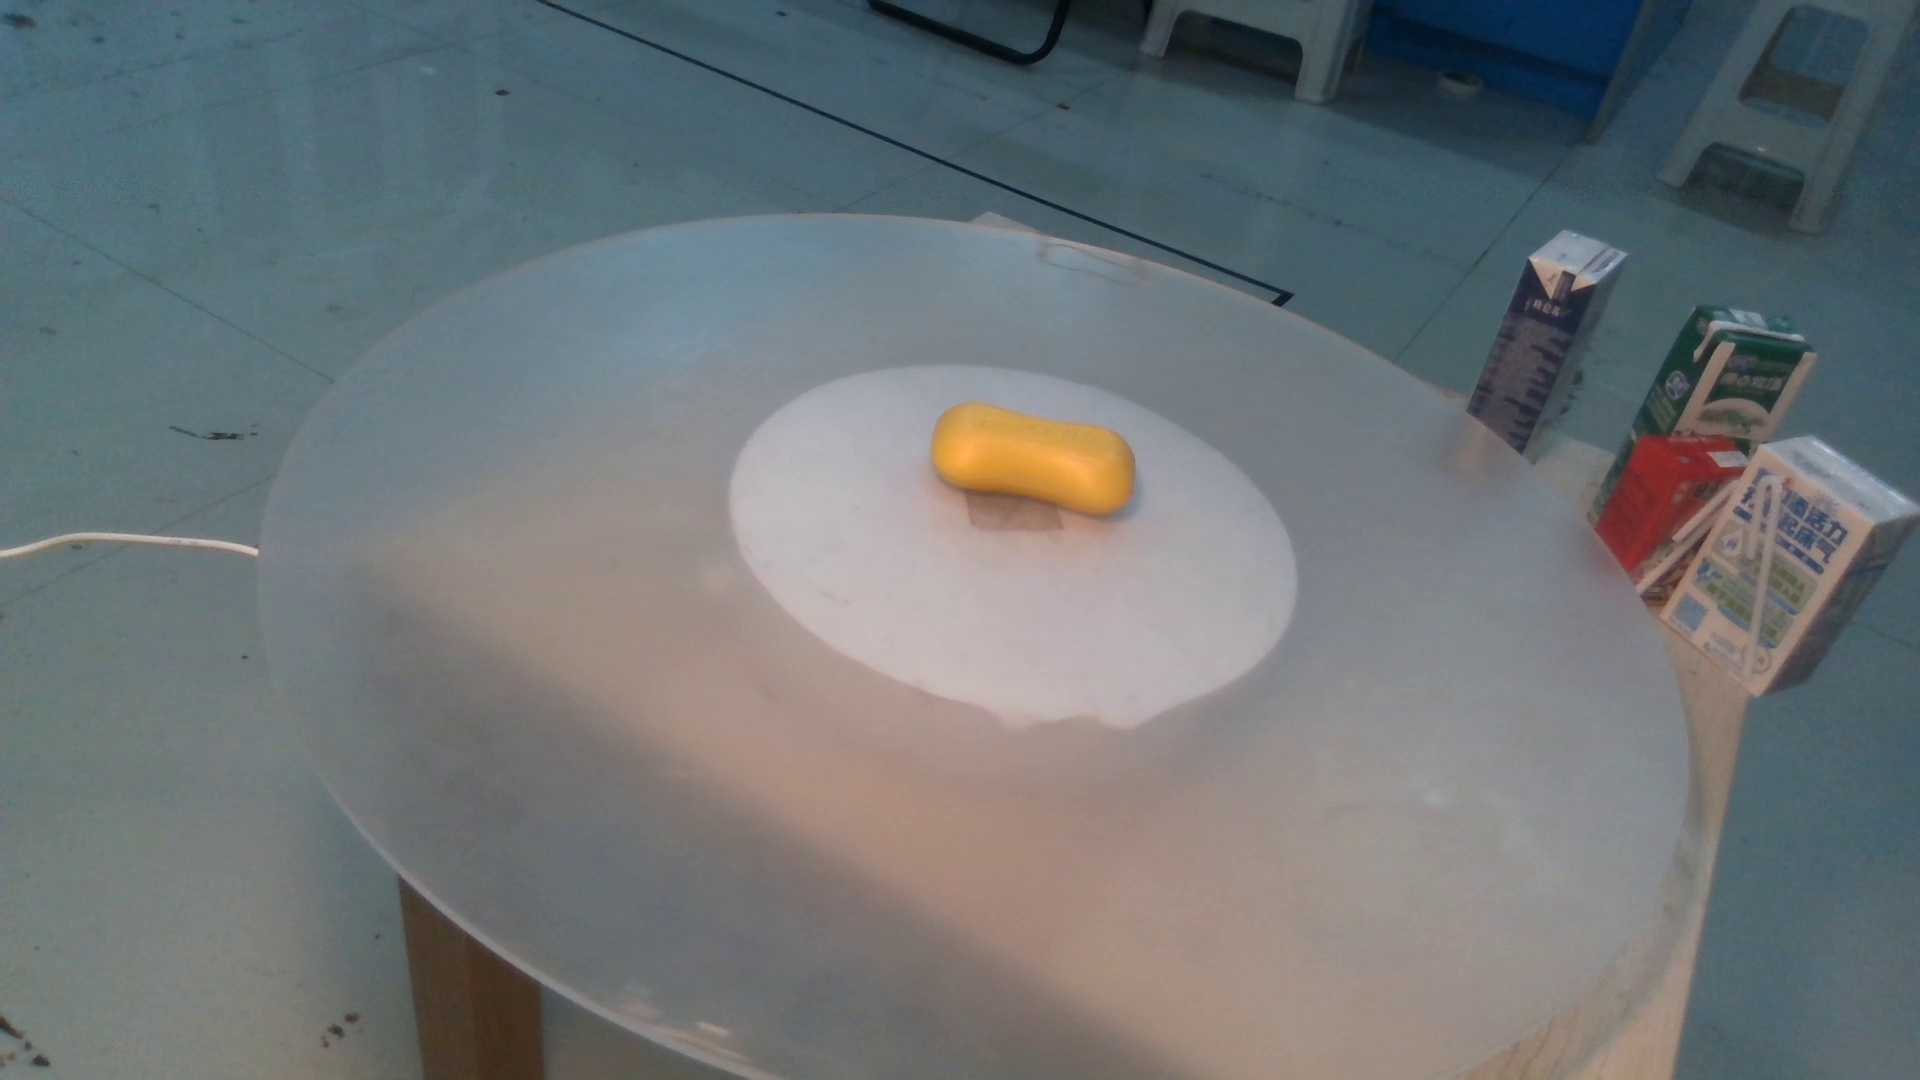CA003_1: (920, 378, 1184, 539)
